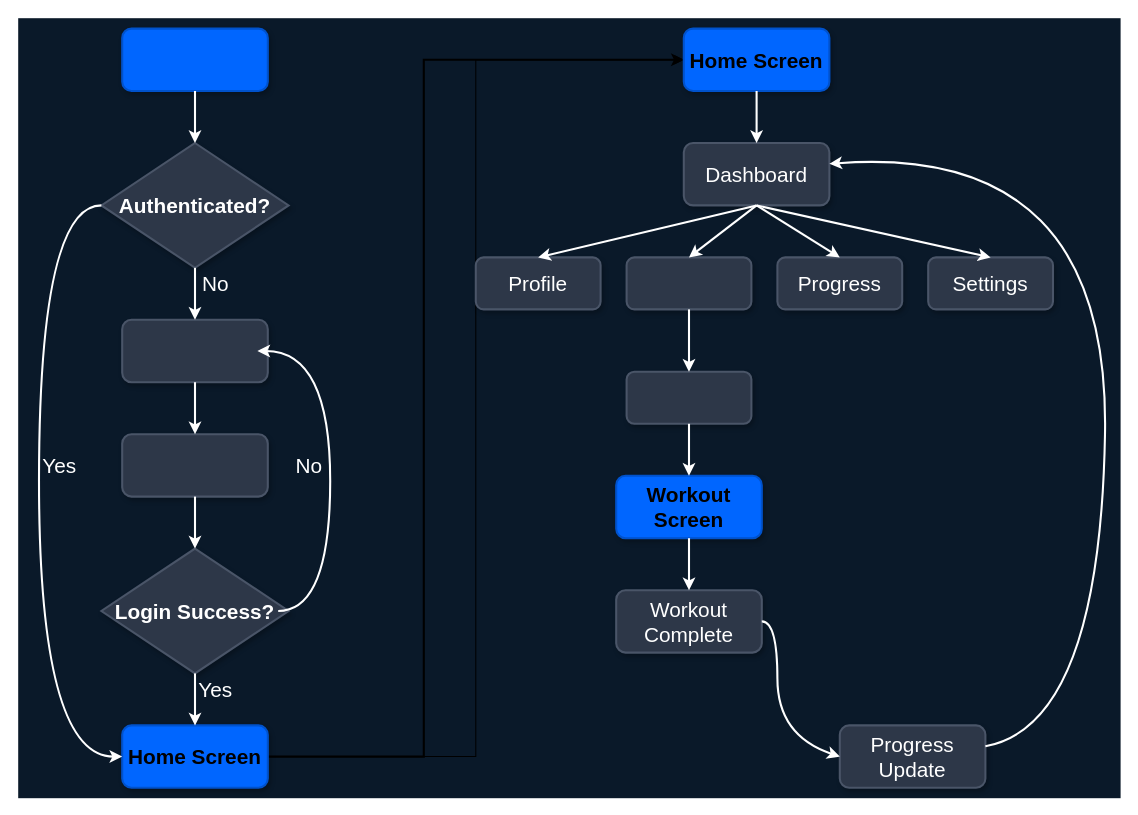
Some shapes in this 1138 by 815 pixel diagram are drawn without their labels. Here are the shapes that lost their labels. From the top down, the centre of each, then its label:
At pixel 195 61: "App Init".
At pixel 689 284: "Exercises".
At pixel 195 352: "Login Screen".
At pixel 689 399: "Exercise Detail".
At pixel 195 466: "OAuth Login".
